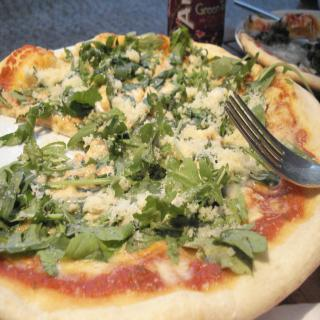Pizza: (0, 13, 320, 316), (239, 8, 319, 87)
